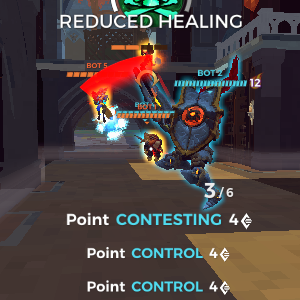model: (88, 77, 112, 125), (135, 130, 167, 165)
